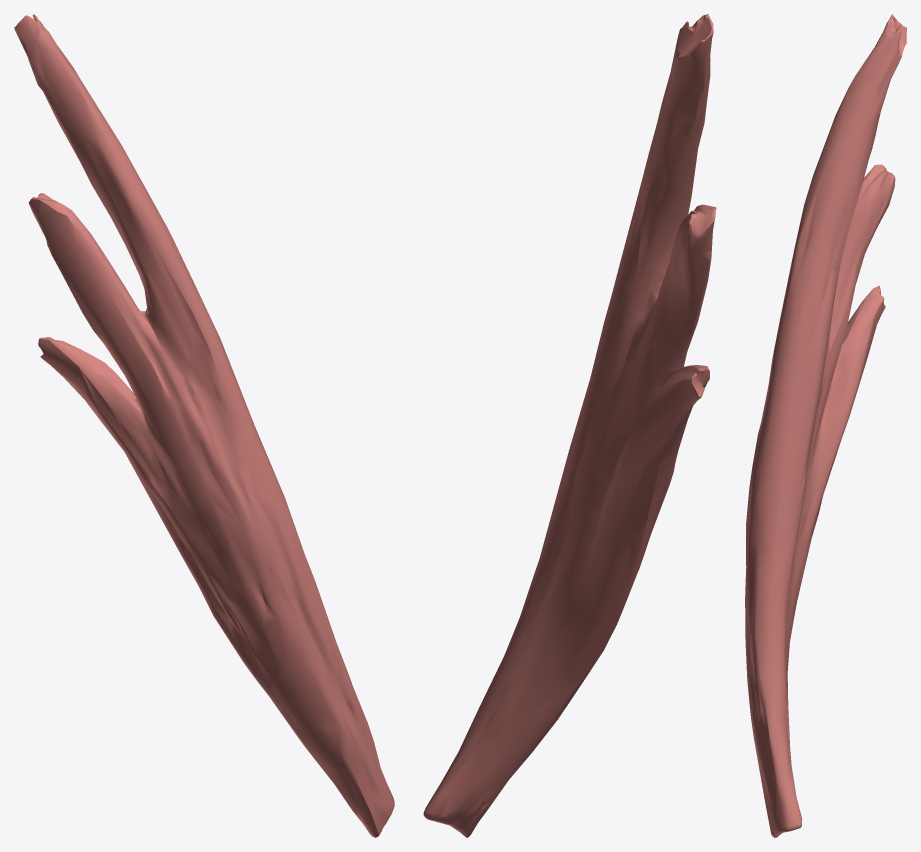
Rendered from fma13393_fj1570.glb.
3 renders of one model, left to right at view 1: azimuth 30°, elevation 25°; view 2: azimuth 150°, elevation 25°; view 3: azimuth 270°, elevation 25°, orthographic. The views are drawn at different scales.
Visible parts, largest first — view 1: FMA13393_FJ1570; view 2: FMA13393_FJ1570; view 3: FMA13393_FJ1570.
Boxes of the visible parts, left/top/right/bottom form: FMA13393_FJ1570: left=14, top=14, right=394, bottom=837; FMA13393_FJ1570: left=423, top=14, right=716, bottom=837; FMA13393_FJ1570: left=745, top=14, right=906, bottom=837.
Size of the model in its own units: 0.034 by 0.0867 by 0.0179.
